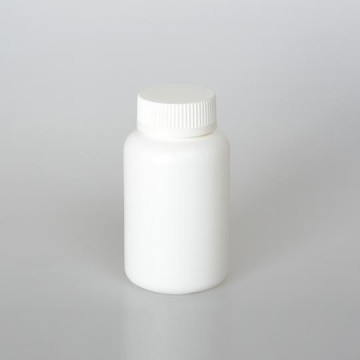medicinejar: (124, 87, 237, 294)
